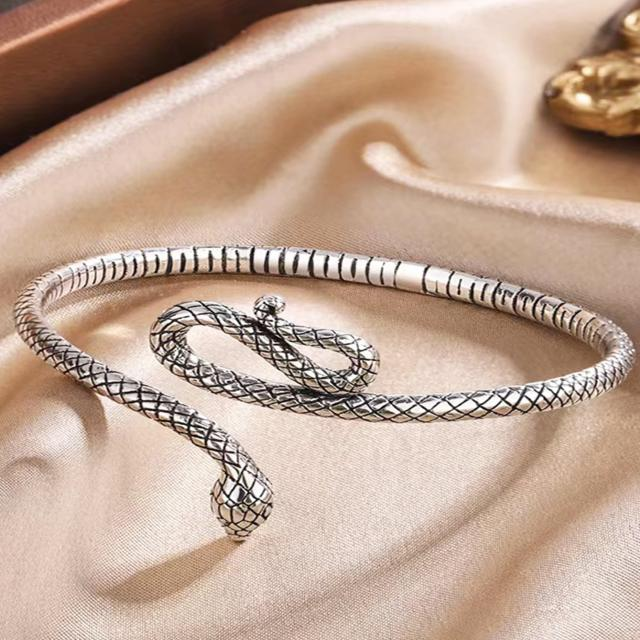bracelet: (0, 171, 640, 599)
